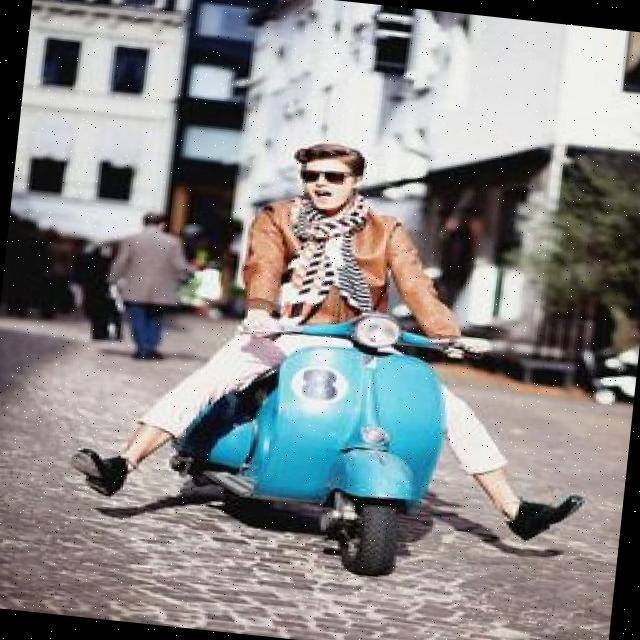No helmet: (292, 143, 372, 215)
